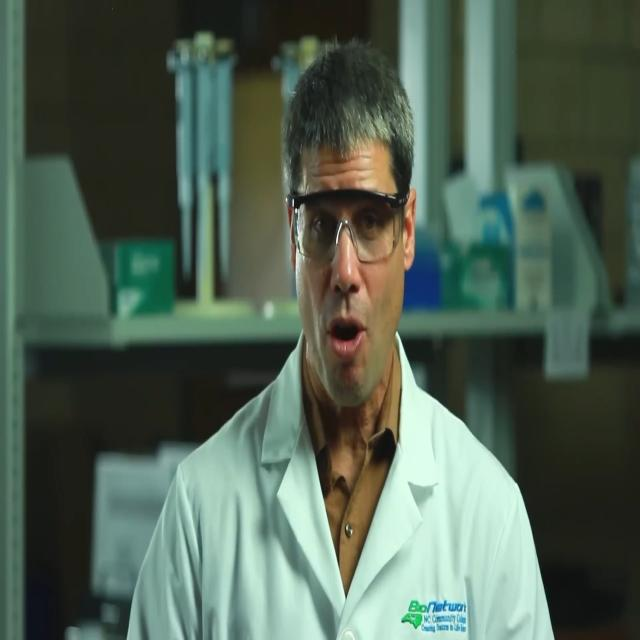googles: (283, 184, 416, 268)
labcoat: (124, 320, 559, 640)
